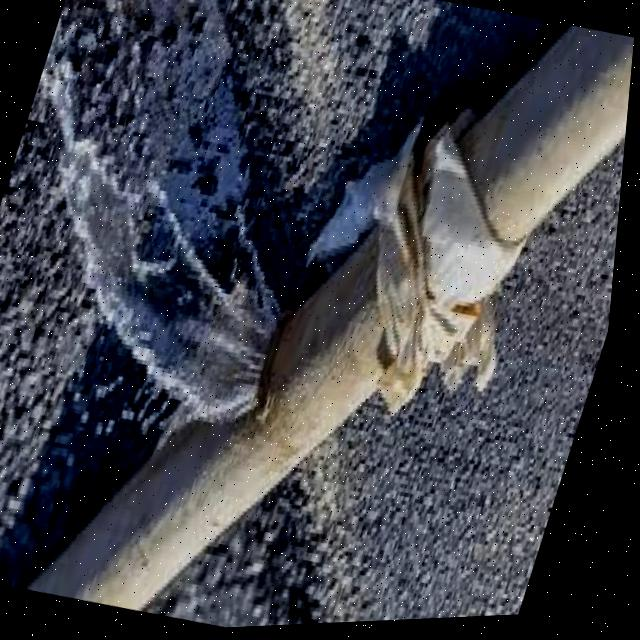corrosion: (70, 158, 411, 482)
